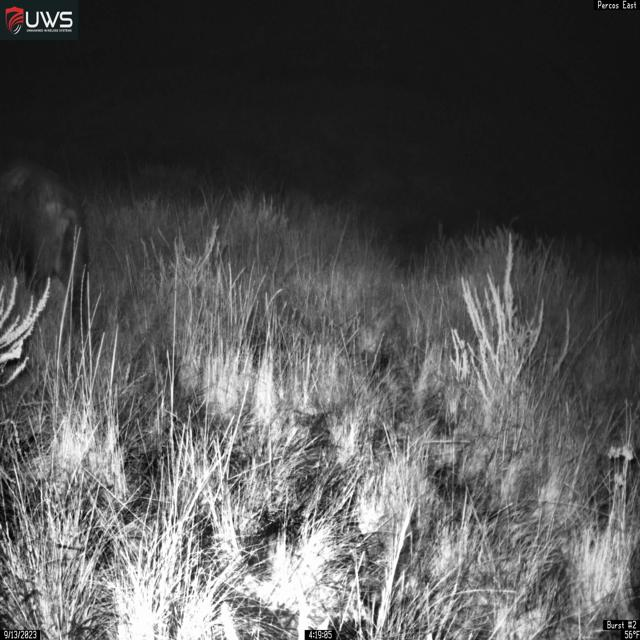pig: (0, 157, 89, 339)
